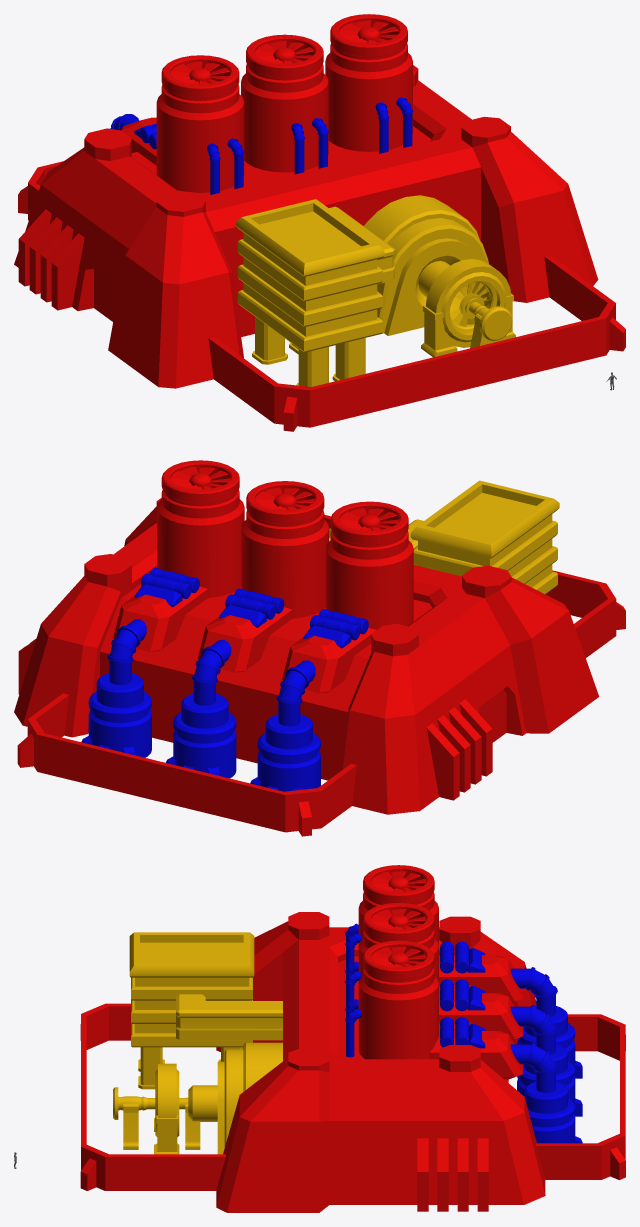
Rendered from Power_Station_3_triangulate.fbx.
3 views of the same model, one above another, from view 1: azimuth 30°, elevation 25°; view 2: azimuth 150°, elevation 25°; view 3: azimuth 270°, elevation 25° (orthographic). The views are drawn at different scales.
Parts seen in each view (by area): view 1: polySurface142, polySurface89; view 2: polySurface142; view 3: polySurface142, polySurface89.
Part boxes in pixels (x1,y1,x2,y2): polySurface142: (14, 14, 625, 431); polySurface89: (363, 195, 515, 357); polySurface142: (14, 460, 625, 836); polySurface142: (80, 865, 625, 1212); polySurface89: (113, 1042, 282, 1154).
Size of the model in its own units: 79.07 by 37.05 by 104.
